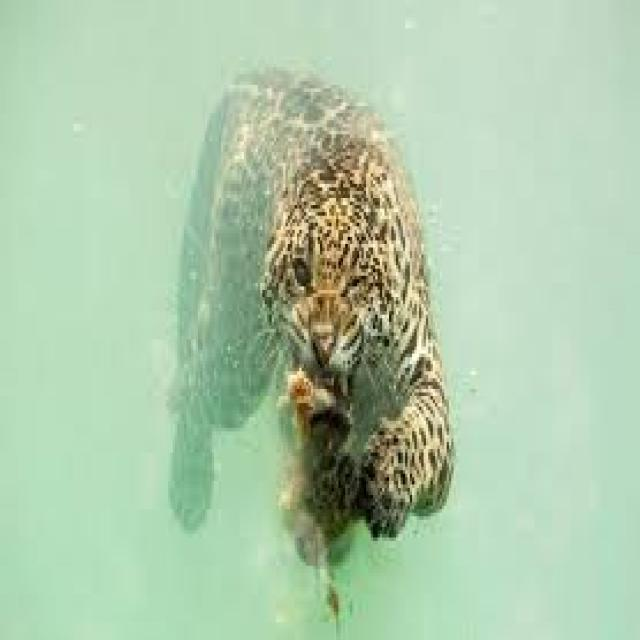Jaguar: (170, 64, 447, 552)
